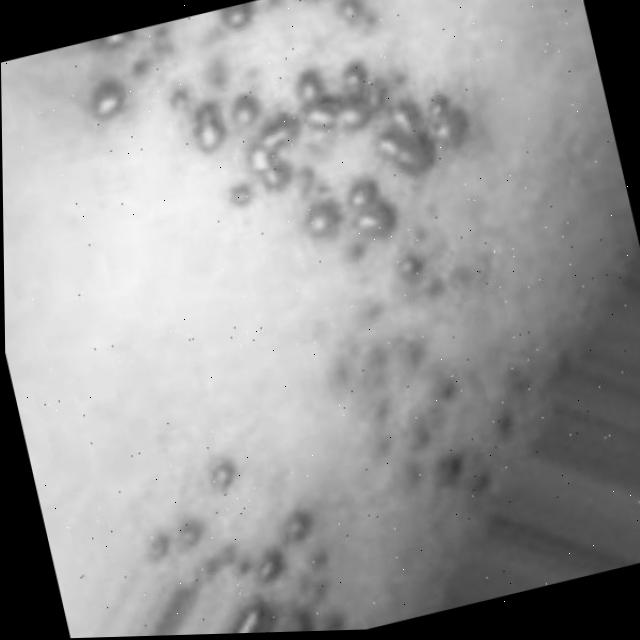Shingles: (51, 0, 507, 318), (314, 262, 541, 542), (126, 419, 353, 636)
